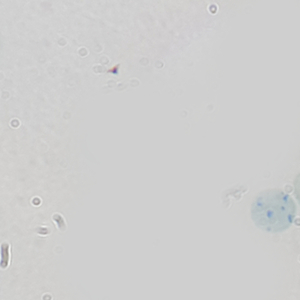aggregate reticulocyte: (248, 186, 299, 236)
